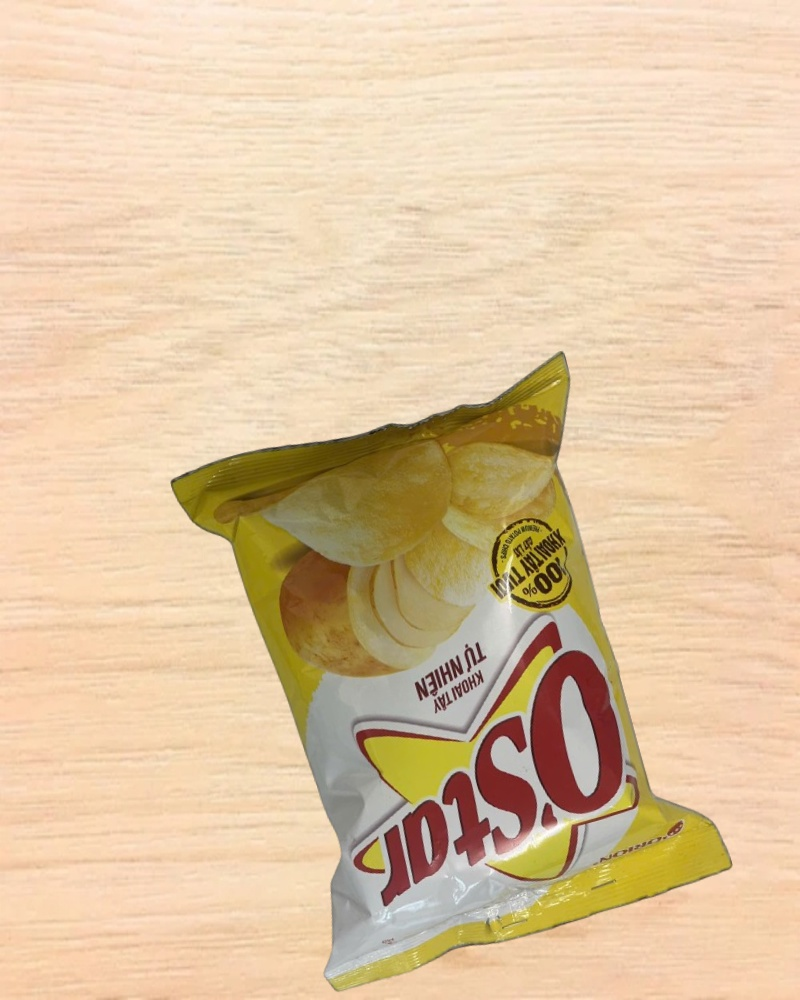Snack cua: (171, 350, 734, 992)
